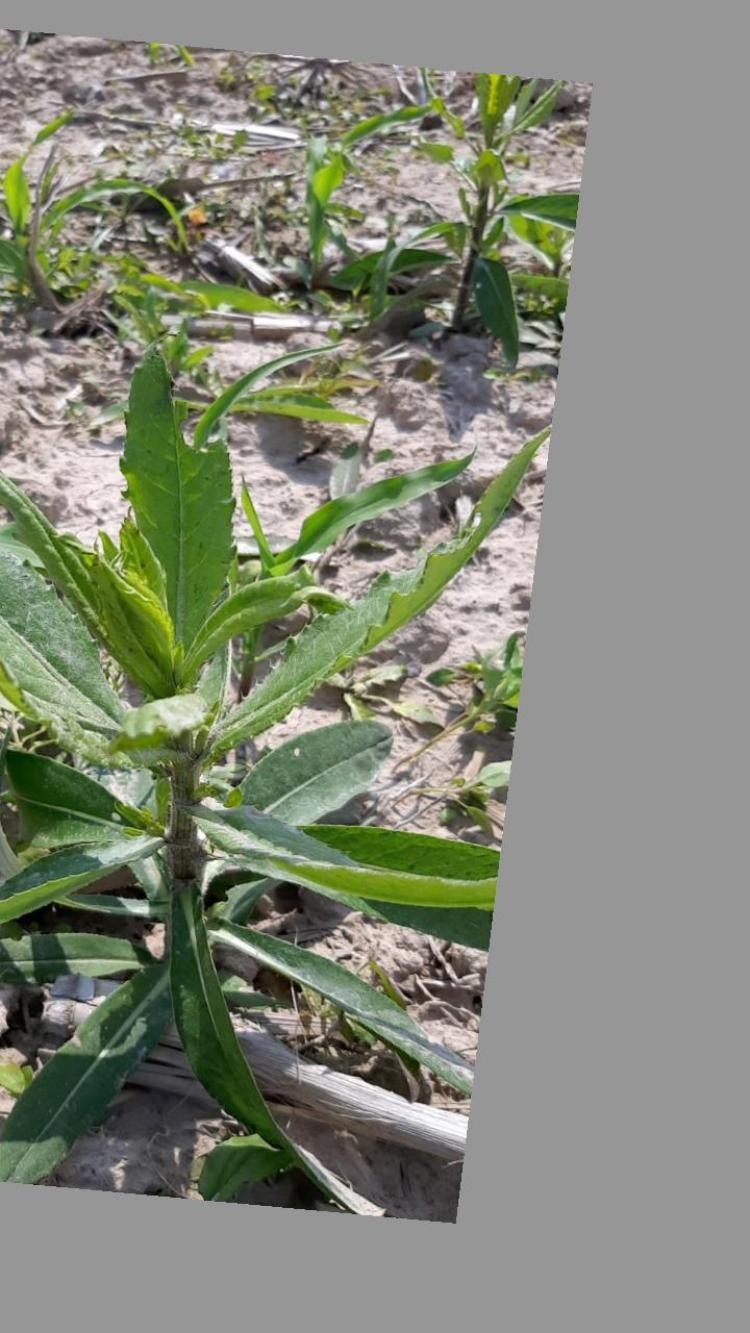osot: (0, 337, 500, 1122)
